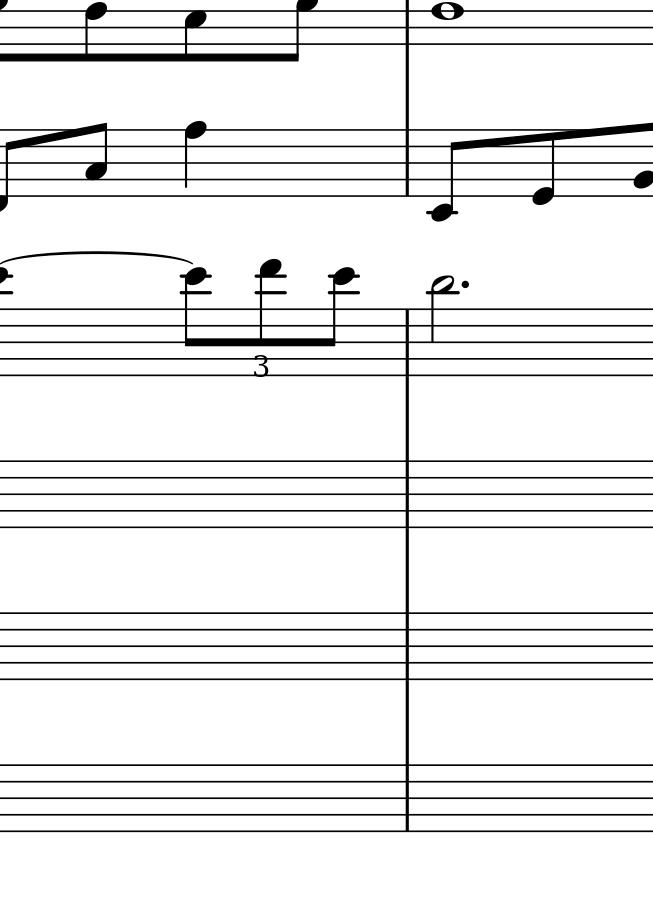3: (252, 354, 268, 377)
4_8: (183, 119, 207, 198)
8_-2: (428, 127, 462, 222)
8_0: (529, 127, 557, 209)
8_11: (428, 275, 455, 377)
8_12: (323, 264, 357, 379), (181, 264, 210, 379)
8_13: (254, 260, 285, 379)
8_3: (83, 121, 109, 199)
Single_barline: (398, 613, 416, 678), (399, 461, 416, 528), (399, 309, 416, 375), (399, 131, 416, 196), (400, 765, 415, 830)
dot: (458, 276, 471, 292)
